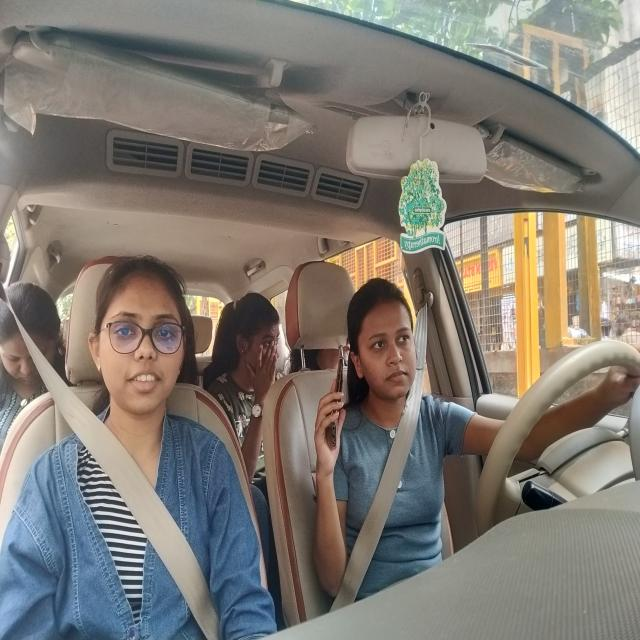mobile: (327, 334, 358, 447)
person: (86, 255, 196, 419), (344, 276, 429, 400), (0, 267, 60, 414), (218, 283, 282, 401)
